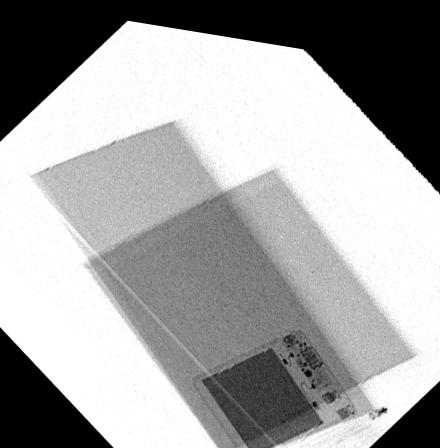Powerbank: (189, 316, 356, 448)
